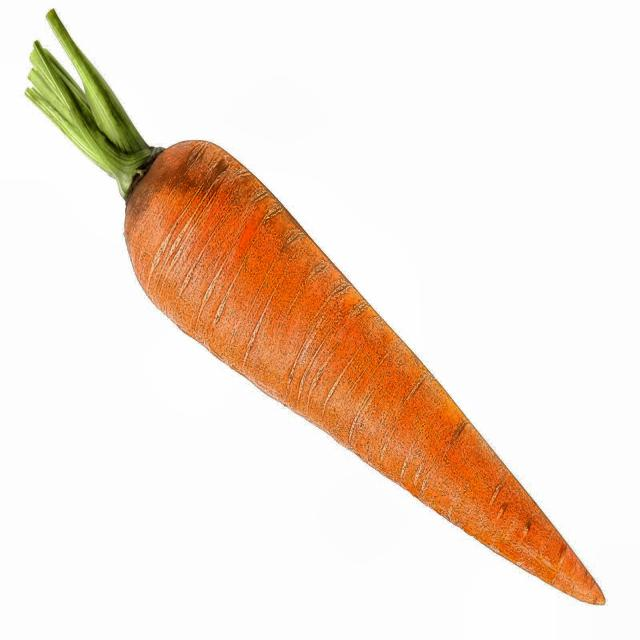carrot: (20, 34, 631, 619)
